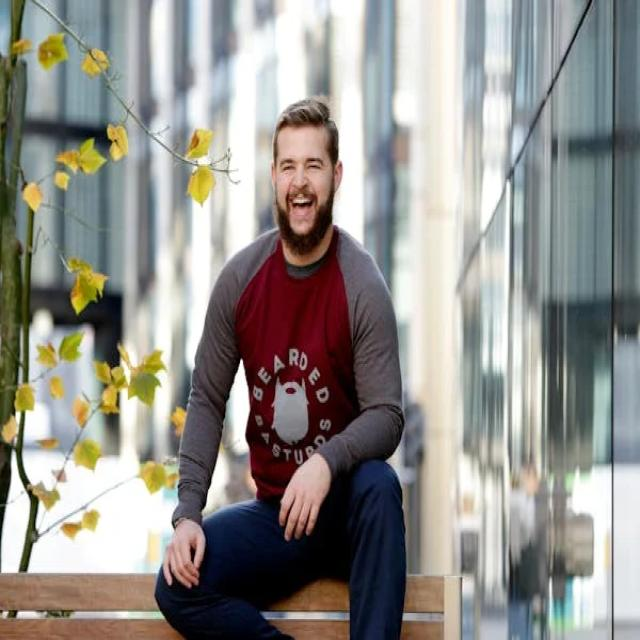Real human 2: (160, 85, 418, 640)
